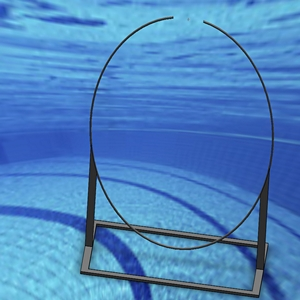circle: (79, 13, 276, 295)
